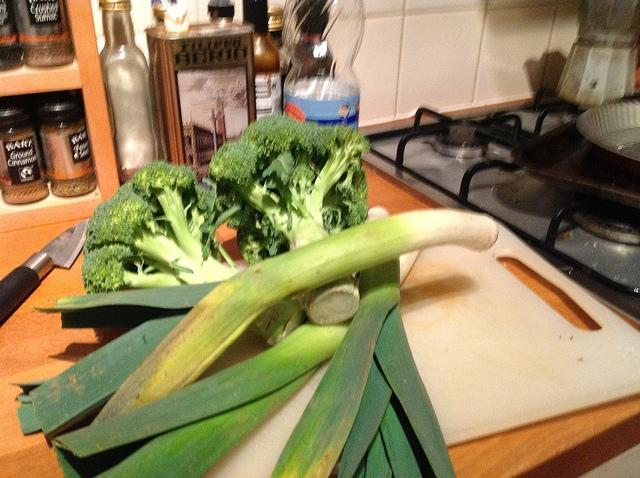broccoli: (207, 112, 371, 327), (82, 162, 238, 294)
green onion: (90, 210, 498, 426), (270, 206, 458, 478), (52, 318, 353, 458), (29, 314, 187, 440), (34, 279, 228, 329)
